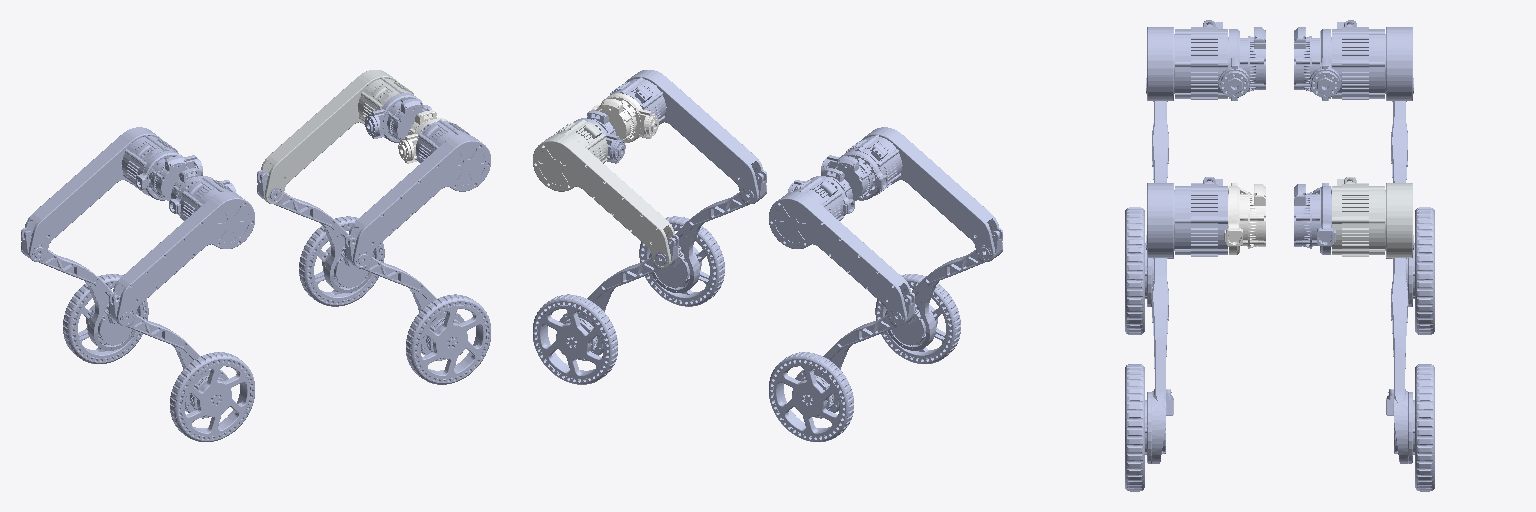
The robot description file, URDF, robot "dogurdf":
<?xml version="1" encoding="utf-8"?>
<!-- This URDF was automatically created by SolidWorks to URDF Exporter! Originally created by Stephen Brawner (brawner@gmail.com) 
     Commit Version: 1.6.0-4-g7f85cfe  Build Version: 1.6.7995.39
     For more information, please see http://wiki.ros.org/sw_urdf_exporter -->
<robot
  name="dogurdf">
  <link
    name="base_link">
    <inertial>
      <origin
        xyz="0 0 -4.0153e-07"
        rpy="0 0 0" />
      <mass
        value="1.97" />
      <inertia
        ixx="0.0145439"
        ixy="0"
        ixz="0"
        iyy="0.122635"
        iyz="0"
        izz="0.132604" />
    </inertial>
    <visual>
      <origin
        xyz="0 0 0"
        rpy="0 0 0" />
      <geometry>
        <mesh
          filename="../meshes/base_link.STL" />
      </geometry>
      <material
        name="">
        <color
          rgba="0.75294 0.75294 0.75294 1" />
      </material>
    </visual>
    <collision>
      <origin
        xyz="0 0 0"
        rpy="0 0 0" />
      <geometry>
        <box size="0.474 0.25 0.12"/>
      </geometry>
    </collision>
  </link>
  <link
    name="FL_hip_link">
    <inertial>
      <origin
        xyz="-0.0096559 -0.00827404 0.00195208"
        rpy="0 0 0" />
      <mass
        value="0.297184" />
      <inertia
        ixx="0.0004086"
        ixy="-2.5e-06"
        ixz="0"
        iyy="0.0007925"
        iyz="2.58e-05"
        izz="0.0006789" />
    </inertial>
    <visual>
      <origin
        xyz="0 0 0"
        rpy="0 0 0" />
      <geometry>
        <mesh
          filename="../meshes/FL_hip_link.STL" />
      </geometry>
      <material
        name="">
        <color
          rgba="0.792157 0.819608 0.933333 1" />
      </material>
    </visual>
    <collision>
      <origin xyz="0 -0.02 0" rpy="1.5708 0 0"/>
      <geometry>
        <cylinder length="0.06" radius="0.0615"/>
      </geometry>
    </collision>
  </link>
  <joint
    name="FL_hip_joint"
    type="revolute">
    <origin
      xyz="0.3265 0.08 0"
      rpy="0 0 0" />
    <parent
      link="base_link" />
    <child
      link="FL_hip_link" />
    <axis
      xyz="1 0 0" />
    <limit
      lower="-0.6"
      upper="0.6"
      effort="300"
      velocity="14" />
  </joint>
  <link
    name="FL_thigh_link">
    <inertial>
      <origin
        xyz="-0.00631688 -0.0499256 -0.035101"
        rpy="0 0 0" />
      <mass
        value="1.70741" />
      <inertia
        ixx="0.0228508"
        ixy="-6.82e-05"
        ixz="-0.001805"
        iyy="0.0175783"
        iyz="5.8e-06"
        izz="0.0091144" />
    </inertial>
    <visual>
      <origin
        xyz="0 0 0"
        rpy="0 0 0" />
      <geometry>
        <mesh
          filename="../meshes/FL_thigh_link.STL" />
      </geometry>
      <material
        name="">
        <color
          rgba="0.898039 0.917647 0.929412 1" />
      </material>
    </visual>
    <collision>
      <origin xyz="0 -0.046 0" rpy="1.5708 0 0"/>
      <geometry>
        <cylinder length="0.145" radius="0.07"/>
      </geometry>
    </collision>
    <collision>
      <origin xyz="-0.03 0 -0.145" rpy="0 0 0"/>
      <geometry>
        <box size="0.064 0.045 0.3"/>
      </geometry>
    </collision>
  </link>
  <joint
    name="FL_thigh_joint"
    type="revolute">
    <origin
      xyz="0 0.1308 0"
      rpy="0 1.0197 0" />
    <parent
      link="FL_hip_link" />
    <child
      link="FL_thigh_link" />
    <axis
      xyz="0 1 0" />
    <limit
      lower="-0.7"
      upper="1.75"
      effort="300"
      velocity="14" />
  </joint>
  <link
    name="FL_calf_link">
    <inertial>
      <origin
        xyz="-0.061645 0.0071922 -0.21635"
        rpy="0 0 0" />
      <mass
        value="0.47973" />
      <inertia
        ixx="0.0086128"
        ixy="0.00015398"
        ixz="-0.0027346"
        iyy="0.0098559"
        iyz="0.00036852"
        izz="0.0014602" />
    </inertial>
    <visual>
      <origin
        xyz="0 0 0"
        rpy="0 0 0" />
      <geometry>
        <mesh
          filename="../meshes/FL_calf_link.STL" />
      </geometry>
      <material
        name="">
        <color
          rgba="0.79216 0.81961 0.93333 1" />
      </material>
    </visual>
    <collision>
      <origin xyz="-0.01 0 -0.12" rpy="0 0 0"/>
      <geometry>
        <cylinder length="0.15" radius="0.016"/>
      </geometry>
    </collision>
    <collision>
      <origin xyz="-0.045 0 -0.24" rpy="0 0.45 0"/>
      <geometry>
        <cylinder length="0.13" radius="0.015"/>
      </geometry>
    </collision>
    <collision>
      <origin rpy="1.5708 0 0" xyz="-0.105 0 -0.32" />
      <geometry>
        <cylinder length="0.045" radius="0.065" />
      </geometry>
    </collision>
  </link>
  <joint
    name="FL_calf_joint"
    type="revolute">
    <origin
      xyz="0 0 -0.34"
      rpy="3.1416 -1.0861 -3.1416" />
    <parent
      link="FL_thigh_link" />
    <child
      link="FL_calf_link" />
    <axis
      xyz="0 1 0" />
    <limit
      lower="-1"
      upper="0.35"
      effort="300"
      velocity="14" />
  </joint>
  <link
    name="FL_wheel_link">
    <inertial>
      <origin
        xyz="-1.56973e-06 0.00208085 9.8644e-08"
        rpy="0 0 0" />
      <mass
        value="0.581037" />
      <inertia
        ixx="0.00246783"
        ixy="-1.22436e-09"
        ixz="-1.10058e-08"
        iyy="0.00482401"
        iyz="0"
        izz="0.00246789" />
    </inertial>
    <visual>
      <origin
        xyz="0 0 0"
        rpy="0 0 0" />
      <geometry>
        <mesh
          filename="../meshes/FL_wheel_link.STL" />
      </geometry>
      <material
        name="">
        <color
          rgba="0.792157 0.819608 0.933333 1" />
      </material>
    </visual>
    <collision>
        <origin rpy="1.5708 0 0" xyz="0 0 0" /> 
      <geometry>
        <cylinder length="0.04" radius="0.113" />
      </geometry>
    </collision>
  </link>
  <joint
    name="FL_wheel_joint"
    type="continuous">
    <origin
      xyz="-0.10583 0.045 -0.32311"
      rpy="0 -0.21627 0" />
    <parent
      link="FL_calf_link" />
    <child
      link="FL_wheel_link" />
    <axis
      xyz="0 1 0" />
  </joint>
  <link
    name="FR_hip_link">
        <inertial>
      <origin
        xyz="-0.0096559 0.00827404 0.00195208"
        rpy="0 0 0" />
      <mass
        value="0.297184" />
      <inertia
        ixx="0.0004086"
        ixy="2.5e-06"
        ixz="0"
        iyy="0.0007925"
        iyz="-2.58e-05"
        izz="0.0006789" />
    </inertial>
    <visual>
      <origin
        xyz="0 0 0"
        rpy="0 0 0" />
      <geometry>
        <mesh
          filename="../meshes/FL_hip_link.STL" scale="1 -1 1"/>
      </geometry>
      <material
        name="">
        <color
          rgba="1 1 1 1" />
      </material>
    </visual>
    <collision>
      <origin xyz="0 0.02 0" rpy="1.5708 0 0"/>
      <geometry>
        <cylinder length="0.06" radius="0.0615"/>
      </geometry>
    </collision>
  </link>
  <joint
    name="FR_hip_joint"
    type="revolute">
    <origin
      xyz="0.3265 -0.08 0"
      rpy="0 0 0" />
    <parent
      link="base_link" />
    <child
      link="FR_hip_link" />
    <axis
      xyz="1 0 0" />
    <limit
      lower="-0.6"
      upper="0.6"
      effort="300"
      velocity="14" />
  </joint>
  <link
    name="FR_thigh_link">
        <inertial>
      <origin
        xyz="-0.00631688 0.0499256 -0.035101"
        rpy="0 0 0" />
      <mass
        value="1.70741" />
      <inertia
        ixx="0.0228508"
        ixy="6.82e-05"
        ixz="-0.001805"
        iyy="0.0175783"
        iyz="-5.8e-06"
        izz="0.0091144" />
    </inertial>
    <visual>
      <origin
        xyz="0 0 0"
        rpy="0 0 0" />
      <geometry>
        <mesh
          filename="../meshes/FL_thigh_link.STL" scale="1 -1 1"/>
      </geometry>
      <material
        name="">
        <color
          rgba="0.792157 0.819608 0.933333 1" />
      </material>
    </visual>
    <collision>
      <origin xyz="0 0.046 0" rpy="1.5708 0 0"/>
      <geometry>
        <cylinder length="0.145" radius="0.07"/>
      </geometry>
    </collision>
    <collision>
      <origin xyz="-0.03 0 -0.145" rpy="0 0 0"/>
      <geometry>
        <box size="0.064 0.045 0.3"/>
      </geometry>
    </collision>
  </link>
  <joint
    name="FR_thigh_joint"
    type="revolute">
    <origin
      xyz="0 -0.1308 0"
      rpy="0 1.0197 0" />
    <parent
      link="FR_hip_link" />
    <child
      link="FR_thigh_link" />
    <axis
      xyz="0 1 0" />
    <limit
      lower="-0.7"
      upper="1.75"
      effort="300"
      velocity="14" />
  </joint>
  <link
    name="FR_calf_link">
        <inertial>
      <origin
        xyz="-0.061645 -0.0071922 -0.21635"
        rpy="0 0 0" />
      <mass
        value="0.47973" />
      <inertia
        ixx="0.0086128"
        ixy="-0.00015398"
        ixz="-0.0027346"
        iyy="0.0098559"
        iyz="-0.00036852"
        izz="0.0014602" />
    </inertial>
    <visual>
      <origin
        xyz="0 0 0"
        rpy="0 0 0" />
      <geometry>
        <mesh
          filename="../meshes/FL_calf_link.STL" scale="1 -1 1"/>
      </geometry>
      <material
        name="">
        <color
          rgba="0.792157 0.819608 0.933333 1" />
      </material>
    </visual>
    <collision>
      <origin xyz="-0.01 0 -0.12" rpy="0 0 0"/>
      <geometry>
        <cylinder length="0.15" radius="0.016"/>
      </geometry>
    </collision>
    <collision>
      <origin xyz="-0.045 0 -0.24" rpy="0 0.45 0"/>
      <geometry>
        <cylinder length="0.13" radius="0.015"/>
      </geometry>
    </collision>
    <collision>
      <origin rpy="1.5708 0 0" xyz="-0.105 0 -0.32" />
      <geometry>
        <cylinder length="0.045" radius="0.065" />
      </geometry>
    </collision>
  </link>
  <joint
    name="FR_calf_joint"
    type="revolute">
    <origin
      xyz="0 0 -0.34"
      rpy="-3.1416 -1.0861 3.1416" />
    <parent
      link="FR_thigh_link" />
    <child
      link="FR_calf_link" />
    <axis
      xyz="0 1 0" />
    <limit
      lower="-1"
      upper="0.35"
      effort="300"
      velocity="14" />
  </joint>
  <link
    name="FR_wheel_link">
        <inertial>
      <origin
        xyz="-1.56973e-06 -0.00208085 9.8644e-08"
        rpy="0 0 0" />
      <mass
        value="0.581037" />
      <inertia
        ixx="0.00246783"
        ixy="1.22436e-09"
        ixz="-1.10058e-08"
        iyy="0.00482401"
        iyz="0"
        izz="0.00246789" />
    </inertial>
    <visual>
      <origin
        xyz="0 0 0"
        rpy="0 0 0" />
      <geometry>
        <mesh
          filename="../meshes/FL_wheel_link.STL" scale="1 -1 1"/>
      </geometry>
      <material
        name="">
        <color
          rgba="0.792157 0.819608 0.933333 1" />
      </material>
    </visual>
    <collision>
        <origin rpy="1.5708 0 0" xyz="0 0 0" /> 
      <geometry>
        <cylinder length="0.04" radius="0.113" />
      </geometry>
    </collision>
  </link>
  <joint
    name="FR_wheel_joint"
    type="continuous">
    <origin
      xyz="-0.10583 -0.045 -0.32311"
      rpy="0 -0.21627 0" />
    <parent
      link="FR_calf_link" />
    <child
      link="FR_wheel_link" />
    <axis
      xyz="0 1 0" />
  </joint>
  <link
    name="RL_hip_link">
        <inertial>
      <origin
        xyz="0.0096559 -0.00827404 0.00195208"
        rpy="0 0 0" />
      <mass
        value="0.297184" />
      <inertia
        ixx="0.0004086"
        ixy="2.5e-06"
        ixz="0"
        iyy="0.0007925"
        iyz="2.58e-05"
        izz="0.0006789" />
    </inertial>
    <visual>
      <origin
        xyz="0 0 0"
        rpy="0 0 0" />
      <geometry>
        <mesh
          filename="../meshes/FL_hip_link.STL" scale="-1 1 1"/>
      </geometry>
      <material
        name="">
        <color
          rgba="0.79216 0.81961 0.93333 1" />
      </material>
    </visual>
    <collision>
      <origin xyz="0 -0.02 0" rpy="1.5708 0 0"/>
      <geometry>
        <cylinder length="0.06" radius="0.0615"/>
      </geometry>
    </collision>
  </link>
  <joint
    name="RL_hip_joint"
    type="revolute">
    <origin
      xyz="-0.3265 0.08 0"
      rpy="0 0 0" />
    <parent
      link="base_link" />
    <child
      link="RL_hip_link" />
    <axis
      xyz="1 0 0" />
    <limit
      lower="-0.6"
      upper="0.6"
      effort="300"
      velocity="14" />
  </joint>
  <link
    name="RL_thigh_link">
        <inertial>
      <origin
        xyz="0.00631688 -0.0499256 -0.035101"
        rpy="0 0 0" />
      <mass
        value="1.70741" />
      <inertia
        ixx="0.0228508"
        ixy="6.82e-05"
        ixz="0.001805"
        iyy="0.0175783"
        iyz="5.8e-06"
        izz="0.0091144" />
    </inertial>
    <visual>
      <origin
        xyz="0 0 0"
        rpy="0 0 0" />
      <geometry>
        <mesh
          filename="../meshes/FL_thigh_link.STL" />
      </geometry>
      <material
        name="">
        <color
          rgba="0.792157 0.819608 0.933333 1" />
      </material>
    </visual>
    <collision>
      <origin xyz="0 -0.046 0" rpy="1.5708 0 0"/>
      <geometry>
        <cylinder length="0.145" radius="0.07"/>
      </geometry>
    </collision>
    <collision>
      <origin xyz="-0.03 0 -0.145" rpy="0 0 0"/>
      <geometry>
        <box size="0.064 0.045 0.3"/>
      </geometry>
    </collision>
  </link>
  <joint
    name="RL_thigh_joint"
    type="revolute">
    <origin
      xyz="0 0.1308 0"
      rpy="0 1.0197 0" />
    <parent
      link="RL_hip_link" />
    <child
      link="RL_thigh_link" />
    <axis
      xyz="0 1 0" />
    <limit
      lower="-0.7"
      upper="1.75"
      effort="300"
      velocity="14" />
  </joint>
  <link
    name="RL_calf_link">
        <inertial>
      <origin
        xyz="0.061645 0.0071922 -0.21635"
        rpy="0 0 0" />
      <mass
        value="0.47973" />
      <inertia
        ixx="0.0086128"
        ixy="-0.00015398"
        ixz="0.0027346"
        iyy="0.0098559"
        iyz="0.00036852"
        izz="0.0014602" />
    </inertial>
    <visual>
      <origin
        xyz="0 0 0"
        rpy="0 0 0" />
      <geometry>
        <mesh
          filename="../meshes/FL_calf_link.STL" />
      </geometry>
      <material
        name="">
        <color
          rgba="0.79216 0.81961 0.93333 1" />
      </material>
    </visual>
    <collision>
      <origin xyz="-0.01 0 -0.12" rpy="0 0 0"/>
      <geometry>
        <cylinder length="0.15" radius="0.016"/>
      </geometry>
    </collision>
    <collision>
      <origin xyz="-0.045 0 -0.24" rpy="0 0.45 0"/>
      <geometry>
        <cylinder length="0.13" radius="0.015"/>
      </geometry>
    </collision>
    <collision>
      <origin rpy="1.5708 0 0" xyz="-0.105 0 -0.32" />
      <geometry>
        <cylinder length="0.045" radius="0.065" />
      </geometry>
    </collision>
  </link>
  <joint
    name="RL_calf_joint"
    type="revolute">
    <origin
      xyz="0 0 -0.34"
      rpy="3.1416 -1.0861 -3.1416" />
    <parent
      link="RL_thigh_link" />
    <child
      link="RL_calf_link" />
    <axis
      xyz="0 1 0" />
    <limit
      lower="-1"
      upper="0.35"
      effort="300"
      velocity="14" />
  </joint>
  <link
    name="RL_wheel_link">
        <inertial>
      <origin
        xyz="1.56973e-06 0.00208085 9.8644e-08"
        rpy="0 0 0" />
      <mass
        value="0.581037" />
      <inertia
        ixx="0.00246783"
        ixy="1.22436e-09"
        ixz="1.10058e-08"
        iyy="0.00482401"
        iyz="0"
        izz="0.00246789" />
    </inertial>
    <visual>
      <origin
        xyz="0 0 0"
        rpy="0 0 0" />
      <geometry>
        <mesh
          filename="../meshes/FL_wheel_link.STL" />
      </geometry>
      <material
        name="">
        <color
          rgba="0.792157 0.819608 0.933333 1" />
      </material>
    </visual>
    <collision>
        <origin rpy="1.5708 0 0" xyz="0 0 0" /> 
      <geometry>
        <cylinder length="0.04" radius="0.113" />
      </geometry>
    </collision>
  </link>
  <joint
    name="RL_wheel_joint"
    type="continuous">
    <origin
      xyz="-0.10583 0.045 -0.32311"
      rpy="0 -0.21627 0" />
    <parent
      link="RL_calf_link" />
    <child
      link="RL_wheel_link" />
    <axis
      xyz="0 1 0" />
  </joint>
  <link
    name="RR_hip_link">
        <inertial>
      <origin
        xyz="0.0096559 0.00827404 0.00195208"
        rpy="0 0 0" />
      <mass
        value="0.297184" />
      <inertia
        ixx="0.0004086"
        ixy="-2.5e-06"
        ixz="0"
        iyy="0.0007925"
        iyz="-2.58e-05"
        izz="0.0006789" />
    </inertial>
    <visual>
      <origin
        xyz="0 0 0"
        rpy="0 0 0" />
      <geometry>
        <mesh
          filename="../meshes/FL_hip_link.STL" scale="-1 -1 1"/>
      </geometry>
      <material
        name="">
        <color
          rgba="0.792157 0.819608 0.933333 1" />
      </material>
    </visual>
    <collision>
      <origin xyz="0 0.02 0" rpy="1.5708 0 0"/>
      <geometry>
        <cylinder length="0.06" radius="0.0615"/>
      </geometry>
    </collision>
  </link>
  <joint
    name="RR_hip_joint"
    type="revolute">
    <origin
      xyz="-0.3265 -0.08 0"
      rpy="0 0 0" />
    <parent
      link="base_link" />
    <child
      link="RR_hip_link" />
    <axis
      xyz="1 0 0" />
    <limit
      lower="-0.6"
      upper="0.6"
      effort="300"
      velocity="14" />
  </joint>
  <link
    name="RR_thigh_link">
        <inertial>
      <origin
        xyz="0.00631688 0.0499256 -0.035101"
        rpy="0 0 0" />
      <mass
        value="1.70741" />
      <inertia
        ixx="0.0228508"
        ixy="-6.82e-05"
        ixz="0.001805"
        iyy="0.0175783"
        iyz="-5.8e-06"
        izz="0.0091144" />
    </inertial>
    <visual>
      <origin
        xyz="0 0 0"
        rpy="0 0 0" />
      <geometry>
        <mesh
          filename="../meshes/FL_thigh_link.STL" scale="1 -1 1"/>
      </geometry>
      <material
        name="">
        <color
          rgba="0.792157 0.819608 0.933333 1" />
      </material>
    </visual>
    <collision>
      <origin xyz="0 0.046 0" rpy="1.5708 0 0"/>
      <geometry>
        <cylinder length="0.145" radius="0.07"/>
      </geometry>
    </collision>
    <collision>
      <origin xyz="-0.03 0 -0.145" rpy="0 0 0"/>
      <geometry>
        <box size="0.064 0.045 0.3"/>
      </geometry>
    </collision>
  </link>
  <joint
    name="RR_thigh_joint"
    type="revolute">
    <origin
      xyz="0 -0.1308 0"
      rpy="0 1.0197 0" />
    <parent
      link="RR_hip_link" />
    <child
      link="RR_thigh_link" />
    <axis
      xyz="0 1 0" />
    <limit
      lower="-0.7"
      upper="1.75"
      effort="300"
      velocity="14" />
  </joint>
  <link
    name="RR_calf_link">
        <inertial>
      <origin
        xyz="0.061645 -0.0071922 -0.21635"
        rpy="0 0 0" />
      <mass
        value="0.47973" />
      <inertia
        ixx="0.0086128"
        ixy="0.00015398"
        ixz="0.0027346"
        iyy="0.0098559"
        iyz="-0.00036852"
        izz="0.0014602" />
    </inertial>
    <visual>
      <origin
        xyz="0 0 0"
        rpy="0 0 0" />
      <geometry>
        <mesh
          filename="../meshes/FL_calf_link.STL" scale="1 -1 1"/>
      </geometry>
      <material
        name="">
        <color
          rgba="0.792157 0.819608 0.933333 1" />
      </material>
    </visual>
    <collision>
      <origin xyz="-0.01 0 -0.12" rpy="0 0 0"/>
      <geometry>
        <cylinder length="0.15" radius="0.016"/>
      </geometry>
    </collision>
    <collision>
      <origin xyz="-0.045 0 -0.24" rpy="0 0.45 0"/>
      <geometry>
        <cylinder length="0.13" radius="0.015"/>
      </geometry>
    </collision>
    <collision>
      <origin rpy="1.5708 0 0" xyz="-0.105 0 -0.32" />
      <geometry>
        <cylinder length="0.045" radius="0.065" />
      </geometry>
    </collision>
  </link>
  <joint
    name="RR_calf_joint"
    type="revolute">
    <origin
      xyz="0 0 -0.34"
      rpy="-3.1416 -1.0861 3.1416" />
    <parent
      link="RR_thigh_link" />
    <child
      link="RR_calf_link" />
    <axis
      xyz="0 1 0" />
    <limit
      lower="-1"
      upper="0.35"
      effort="300"
      velocity="14" />
  </joint>
  <link
    name="RR_wheel_link">
        <inertial>
      <origin
        xyz="1.56973e-06 -0.00208085 9.8644e-08"
        rpy="0 0 0" />
      <mass
        value="0.581037" />
      <inertia
        ixx="0.00246783"
        ixy="-1.22436e-09"
        ixz="1.10058e-08"
        iyy="0.00482401"
        iyz="0"
        izz="0.00246789" />
    </inertial>
    <visual>
      <origin
        xyz="0 0 0"
        rpy="0 0 0" />
      <geometry>
        <mesh
          filename="../meshes/FL_wheel_link.STL" scale="1 -1 1"/>
      </geometry>
      <material
        name="">
        <color
          rgba="0.792157 0.819608 0.933333 1" />
      </material>
    </visual>
    <collision>
        <origin rpy="1.5708 0 0" xyz="0 0 0" /> 
      <geometry>
        <cylinder length="0.04" radius="0.113" />
      </geometry>
    </collision>
  </link>
  <joint
    name="RR_wheel_joint"
    type="continuous">
    <origin
      xyz="-0.10583 -0.045 -0.32311"
      rpy="0 -0.21627 0" />
    <parent
      link="RR_calf_link" />
    <child
      link="RR_wheel_link" />
    <axis
      xyz="0 1 0" />
  </joint>
</robot>

--- Facts derived from the render (not from the file) ---
The picture shows the robot from 3 angles, left to right: view 1: azimuth 30°, elevation 25°; view 2: azimuth 150°, elevation 25°; view 3: azimuth 270°, elevation 25°; orthographic projection.
Model dogurdf with 17 links and 16 joints (12 revolute, 4 continuous), rooted at base_link, posed every joint at zero.
Visible links, largest first — view 1: FR_thigh_link, RR_thigh_link, RL_thigh_link, FL_thigh_link, FR_wheel_link, RR_wheel_link, RL_calf_link, FL_calf_link, FL_wheel_link, RL_wheel_link, RR_calf_link, FR_calf_link (+4 smaller); view 2: FL_thigh_link, RL_thigh_link, RR_thigh_link, FR_thigh_link, FL_wheel_link, RL_wheel_link, RR_calf_link, FR_calf_link, FR_wheel_link, RR_wheel_link, RL_calf_link, FL_calf_link (+4 smaller); view 3: FL_thigh_link, FR_thigh_link, RL_thigh_link, RR_thigh_link, FL_calf_link, FR_calf_link, RL_hip_link, RR_hip_link, RL_wheel_link, RR_wheel_link, FL_wheel_link, FR_wheel_link (+4 smaller).
Link boxes in pixels (x1,y1,x2,y2): FR_thigh_link: (345,119,490,268); RR_thigh_link: (109,177,254,325); RL_thigh_link: (21,127,177,261); FL_thigh_link: (257,70,413,203); FR_wheel_link: (406,294,490,384); RR_wheel_link: (170,352,254,441); RL_calf_link: (21,228,138,350); FL_calf_link: (257,170,374,292); FL_wheel_link: (299,216,384,306); RL_wheel_link: (63,274,148,363); RR_calf_link: (109,292,228,418); FR_calf_link: (345,235,464,360); FL_thigh_link: (533,119,678,268); RL_thigh_link: (769,177,914,325); RR_thigh_link: (846,127,1002,261); FR_thigh_link: (610,70,766,203); FL_wheel_link: (533,294,617,384); RL_wheel_link: (769,352,853,441); RR_calf_link: (885,228,1002,350); FR_calf_link: (649,170,766,292); FR_wheel_link: (639,216,724,306); RR_wheel_link: (875,274,960,363); RL_calf_link: (795,292,914,418); FL_calf_link: (559,235,678,360); FL_thigh_link: (1332,177,1412,257); FR_thigh_link: (1147,177,1227,257); RL_thigh_link: (1332,20,1412,100); RR_thigh_link: (1147,20,1227,100); FL_calf_link: (1386,235,1414,463); FR_calf_link: (1145,235,1173,463); RL_hip_link: (1294,27,1340,100); RR_hip_link: (1219,27,1265,100); RL_wheel_link: (1415,207,1434,334); RR_wheel_link: (1125,207,1144,334); FL_wheel_link: (1415,364,1434,491); FR_wheel_link: (1125,364,1144,491).
Size in the robot's own frame: 1.05 by 0.5466 by 0.6191 metres.
16 mesh visuals loaded from 5 distinct referenced files (4 binary STL); not drawn: 1 (reference not matched to a file when rendering).
